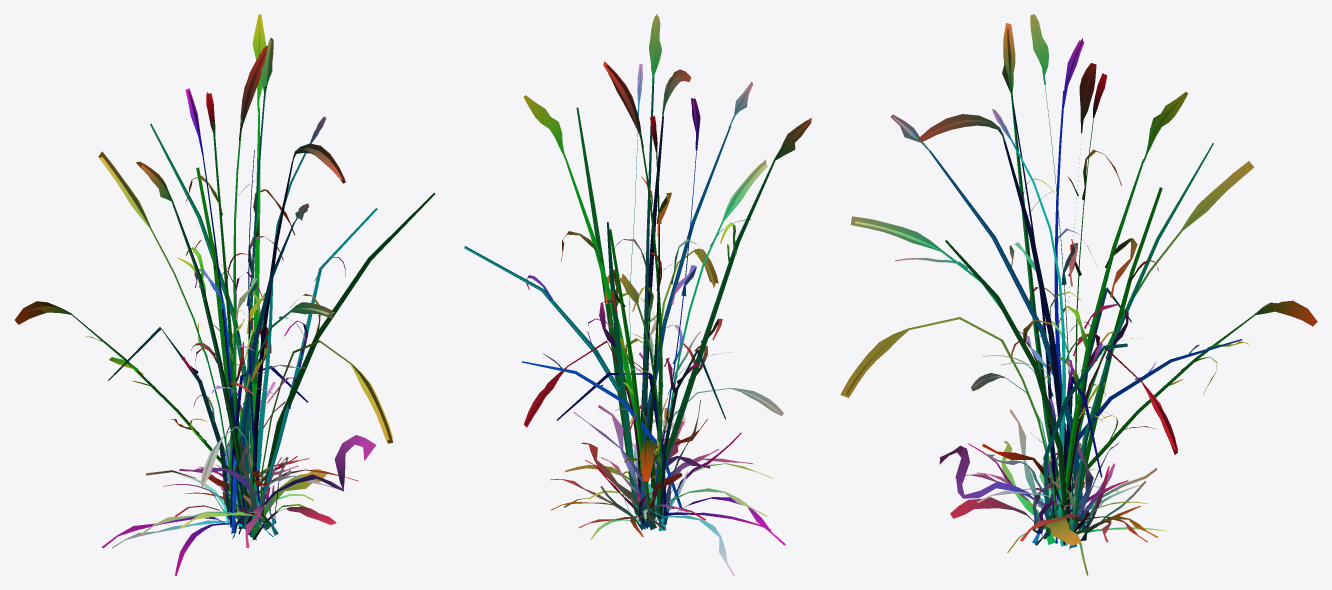
The model's file is Wheat_Grass_tdcrdbur_Low_tdcrdbur_VarA_LOD0.fbx.
3 views of the same model, side by side, from view 1: azimuth 30°, elevation 25°; view 2: azimuth 150°, elevation 25°; view 3: azimuth 270°, elevation 25° (orthographic). The views are drawn at different scales.
Visible parts, largest first — view 1: _8486_VarA_LOD1; view 2: _8486_VarA_LOD1; view 3: _8486_VarA_LOD1.
Part boxes in pixels (x1,y1,x2,y2): _8486_VarA_LOD1: (14, 14, 434, 575); _8486_VarA_LOD1: (464, 14, 811, 575); _8486_VarA_LOD1: (840, 14, 1317, 575).
Size of the model in its own units: 81.73 by 133 by 106.
